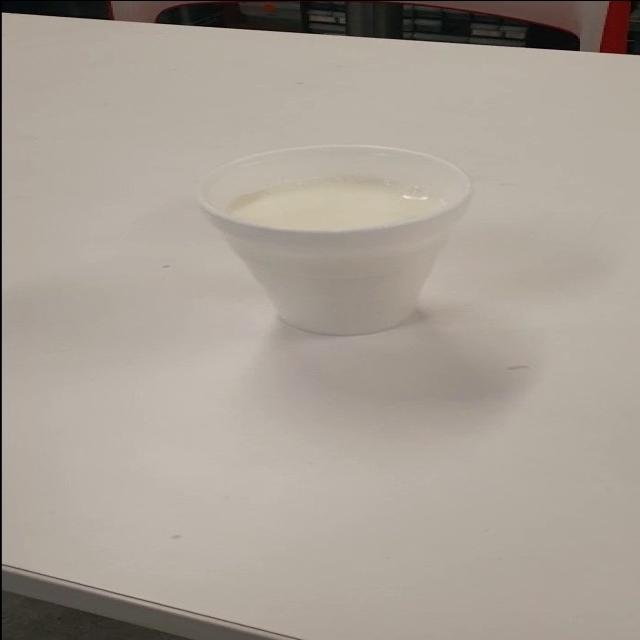Milk: (172, 132, 535, 340)
